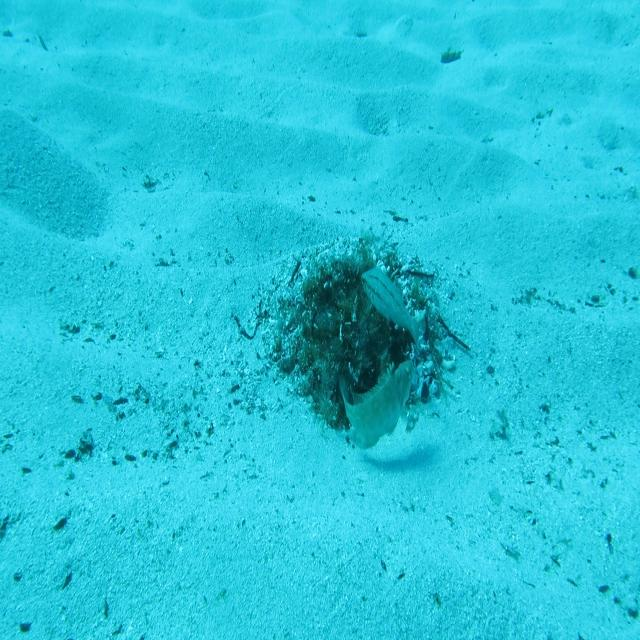BEND: (333, 356, 415, 456)
core_nest: (332, 280, 377, 327)
female: (359, 262, 426, 354)
nest: (257, 233, 468, 469)
vegetation: (439, 46, 463, 64)
